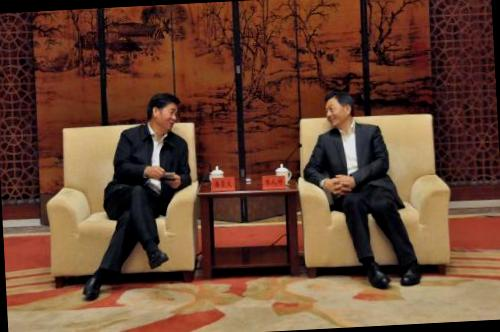no_helmet: (145, 89, 183, 134), (321, 87, 355, 128)
